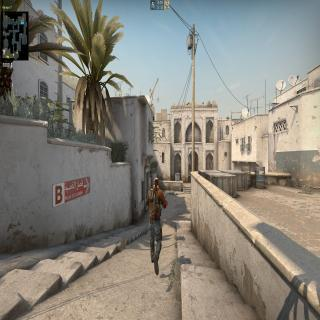T-Head: (154, 174, 160, 188)
